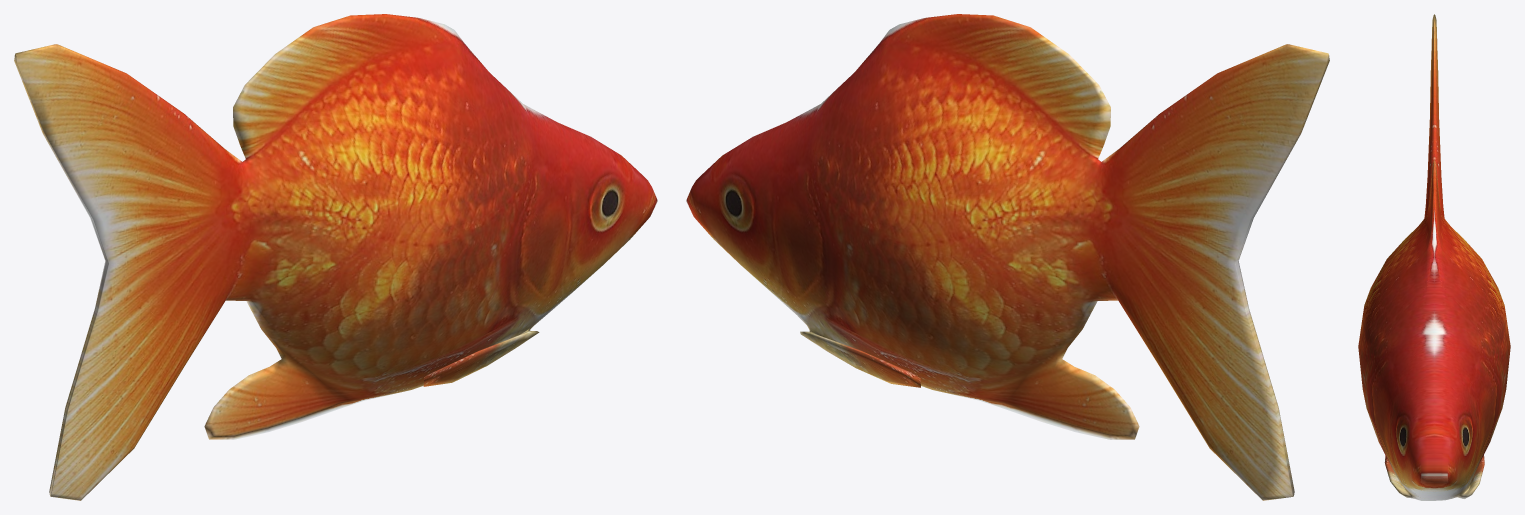
Rendered from fish.dae.
3 renders of one model, left to right at view 1: azimuth 30°, elevation 25°; view 2: azimuth 150°, elevation 25°; view 3: azimuth 270°, elevation 25°, orthographic. The views are drawn at different scales.
Parts seen in each view (by area): view 1: fish; view 2: fish; view 3: fish.
Part boxes in pixels (x1,y1,x2,y2): fish: [14, 14, 657, 500]; fish: [686, 14, 1329, 500]; fish: [1358, 14, 1510, 500].
Bounding box in the file's own units: 3.57 × 0.9756 × 2.49.
Materials: 1 (1 with a texture image).
